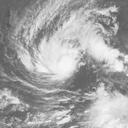cyclone: (16, 7, 115, 85)
